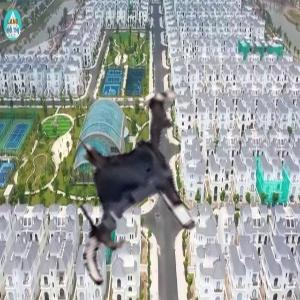drone: (33, 84, 236, 287)
